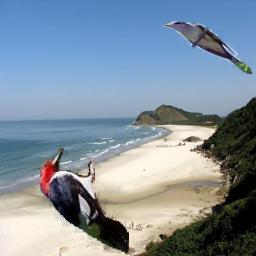Cuckoo: (163, 21, 252, 74)
Woodpecker: (40, 146, 129, 254)
